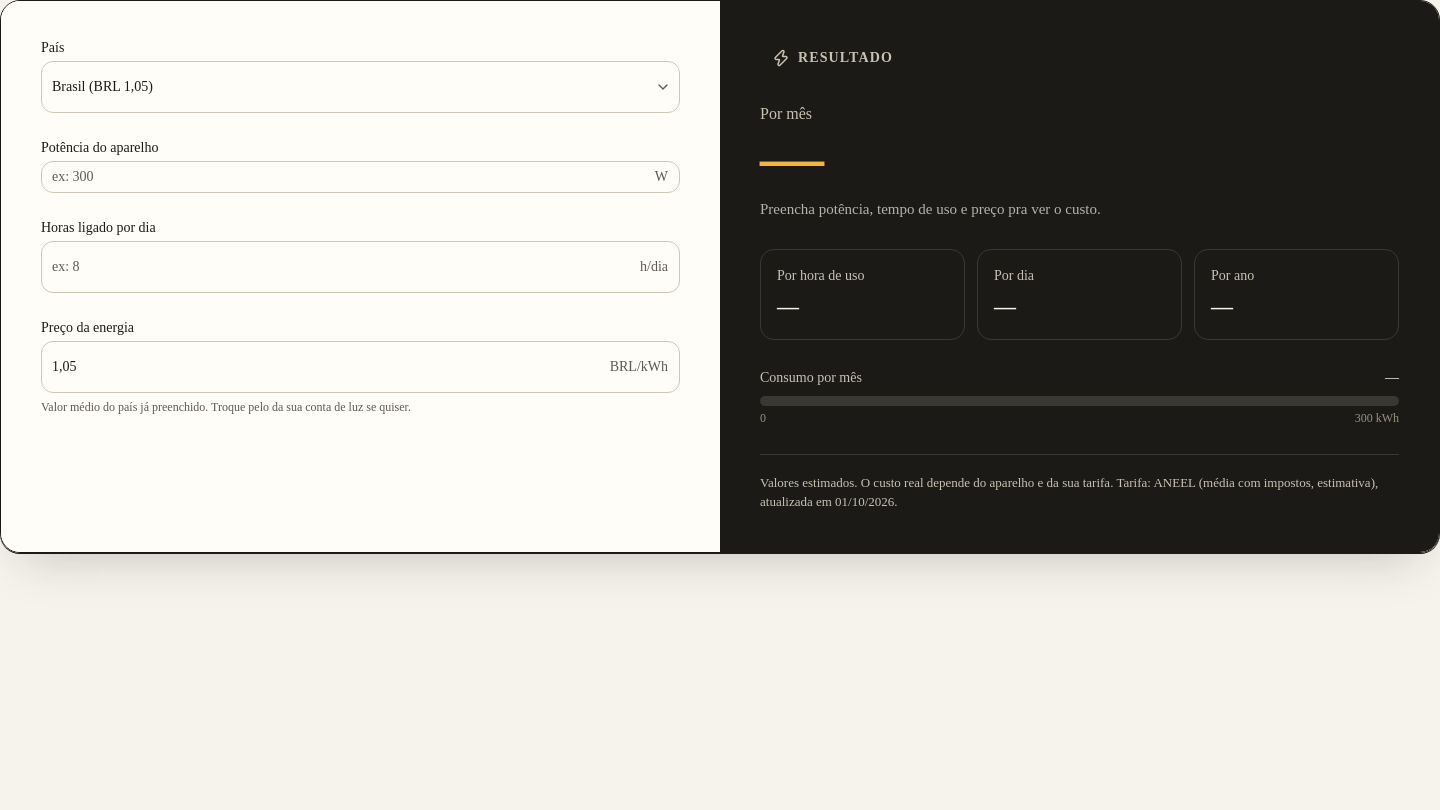
Calculadora › calcula ao vivo, sem clicar em nada (caso conhecido: 300W, 8h, 0,75)
Type "300" into the field labelled "Potência do aparelho".
click(360, 177); type("300")  # box [41,161,680,193]
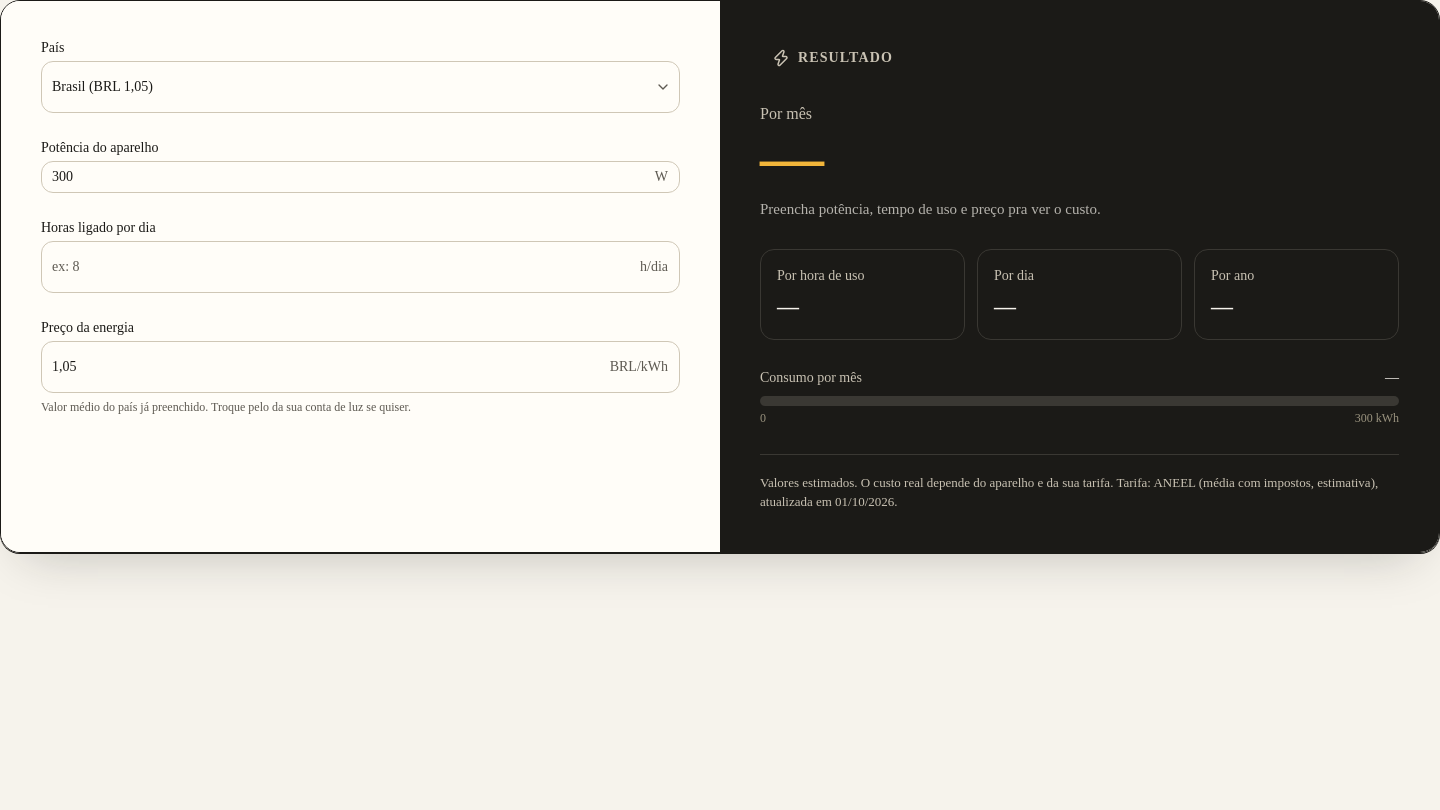
Type "8" into the field labelled "Horas ligado por dia".
click(360, 267); type("8")  # box [41,241,680,293]
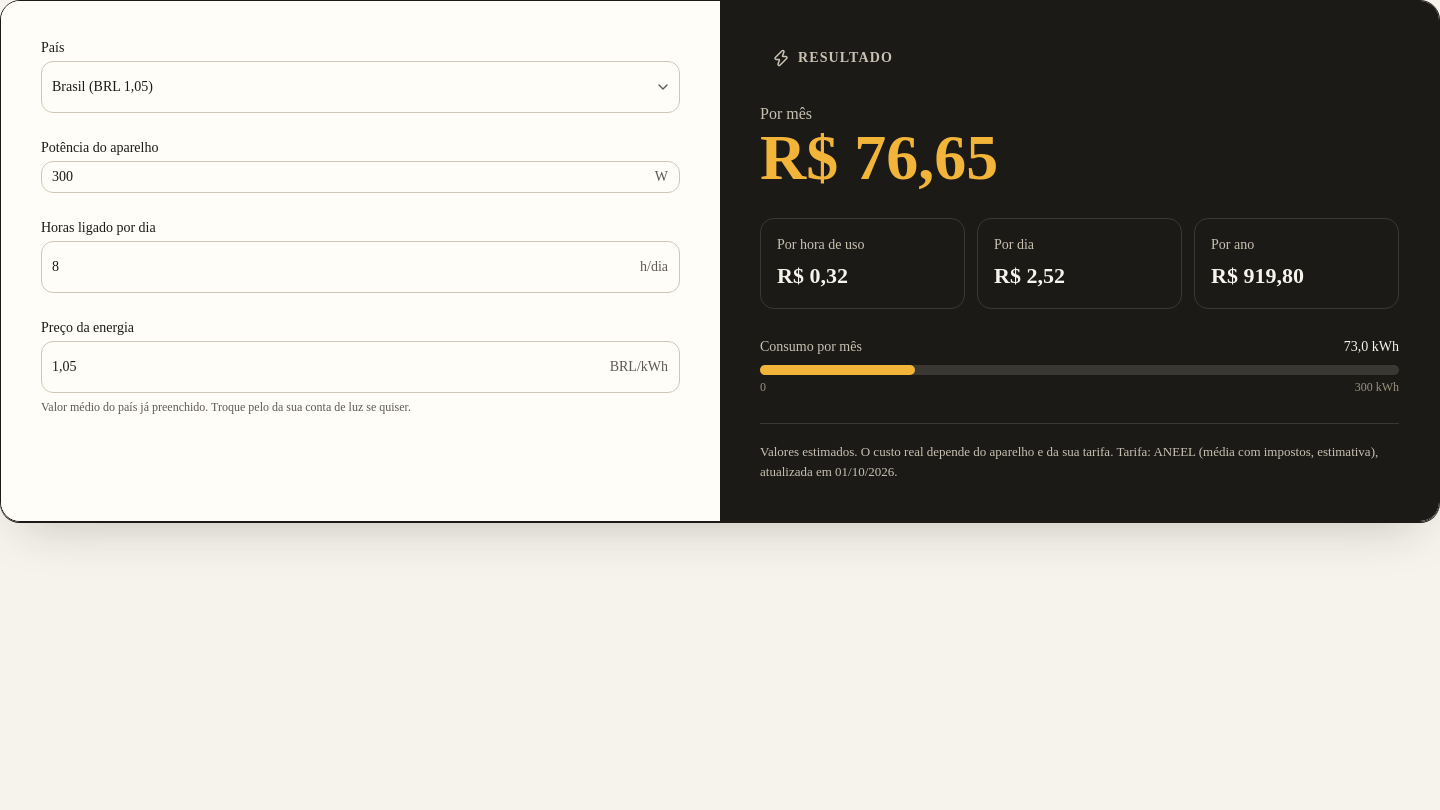
Replace the text in the field labelled "Preço da energia" with "0,75" at x=360, y=367, box [41,341,680,393]
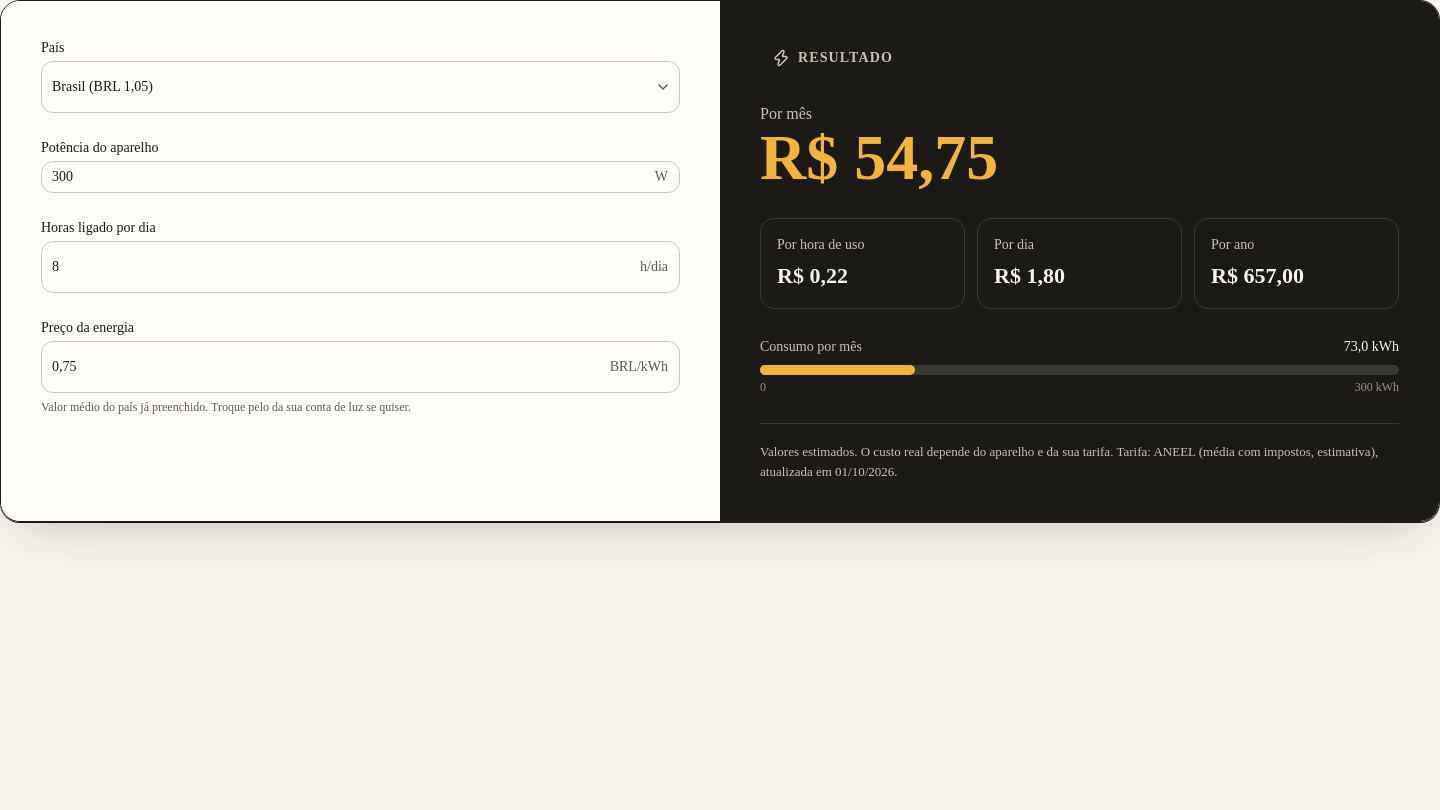
Now the text "R$ 54,75" is shown, box [760,122,998,193]
Now the text "R$ 1,80" is shown, box [994,263,1065,288]
Now the text "R$ 657,00" is shown, box [1211,263,1304,288]
